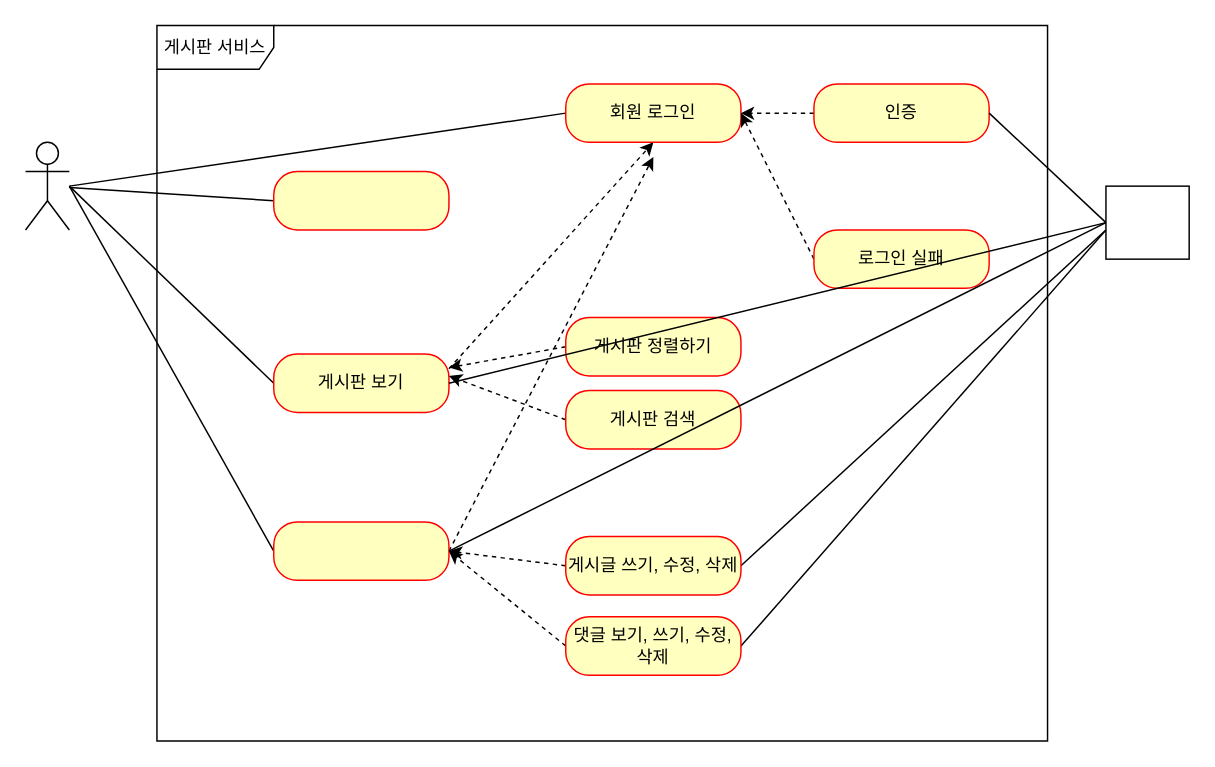
Image size: 1215x767. Some labels were removed from this diagram. The shapes that lost their labels are listed below. From the top down, each one's box as (x1, y1, x2, y2) in pixels, then its label:
(24, 141, 69, 230): Actor
(272, 170, 449, 230): 회원가입
(1104, 185, 1189, 259): DB
(272, 520, 449, 580): 게시글 보기
